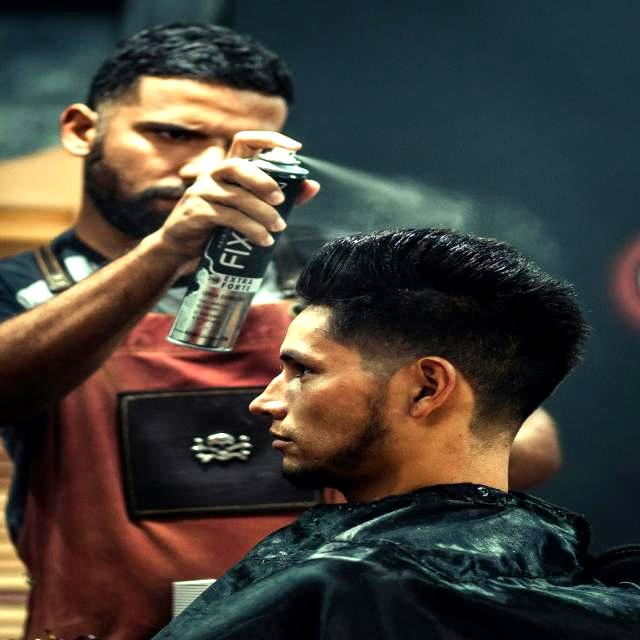no_head_wear: (296, 228, 588, 429), (86, 23, 294, 110)
person: (158, 228, 637, 640), (0, 23, 293, 403)
